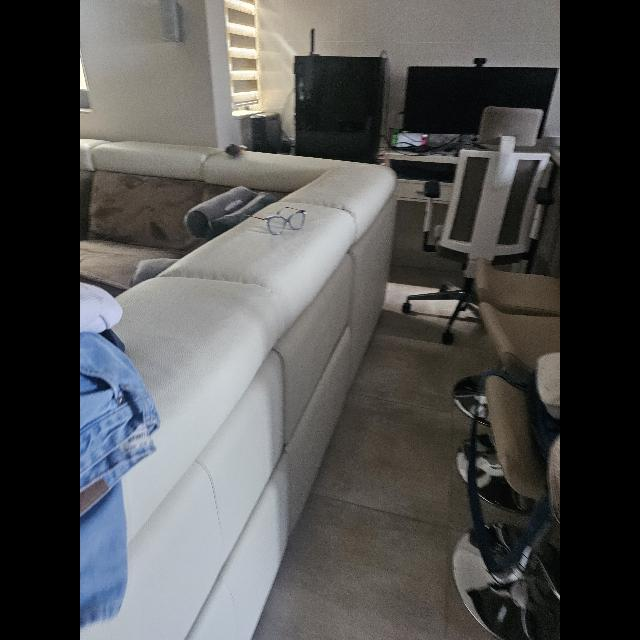glasses: (250, 207, 306, 235)
